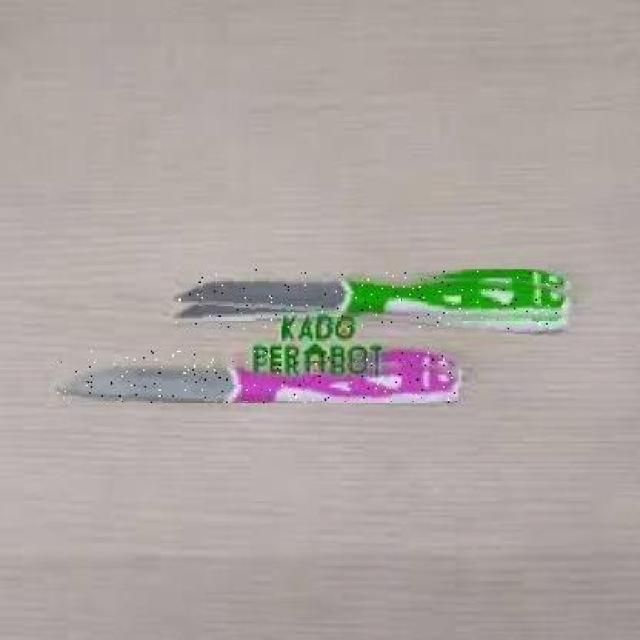knife: (175, 269, 572, 329), (56, 351, 458, 404)
